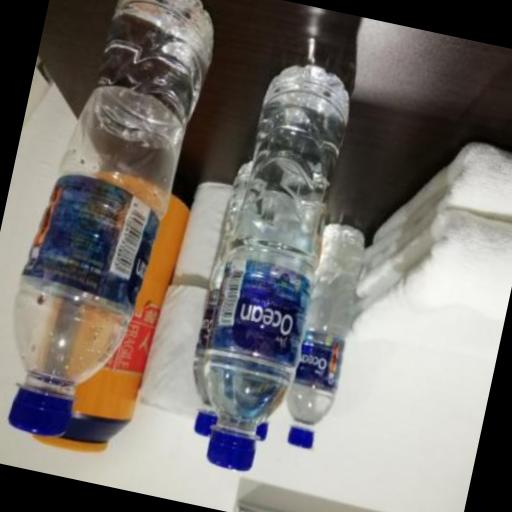Coca: (0, 0, 230, 462), (176, 46, 366, 486), (208, 148, 342, 462), (166, 146, 292, 450), (265, 212, 380, 467)
